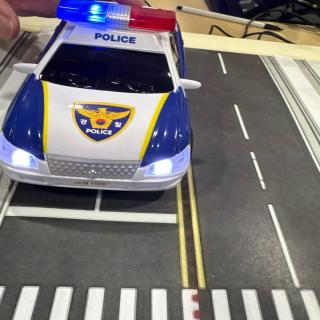Police_car: (0, 0, 201, 190)
